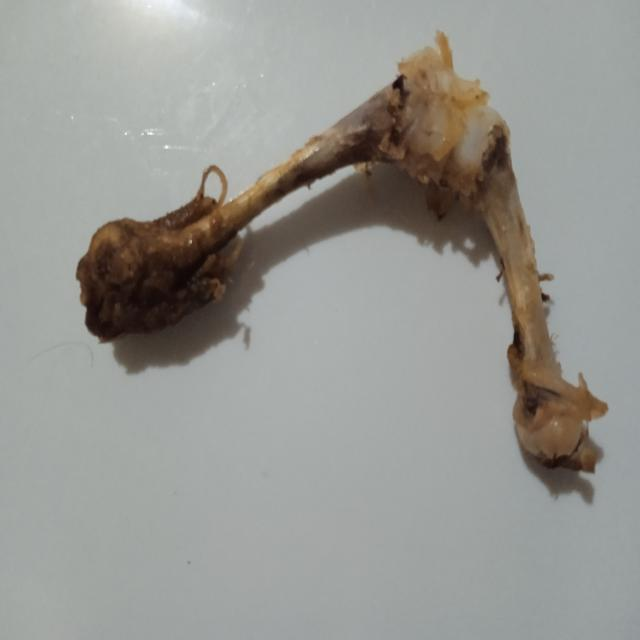bone: (63, 9, 618, 542)
